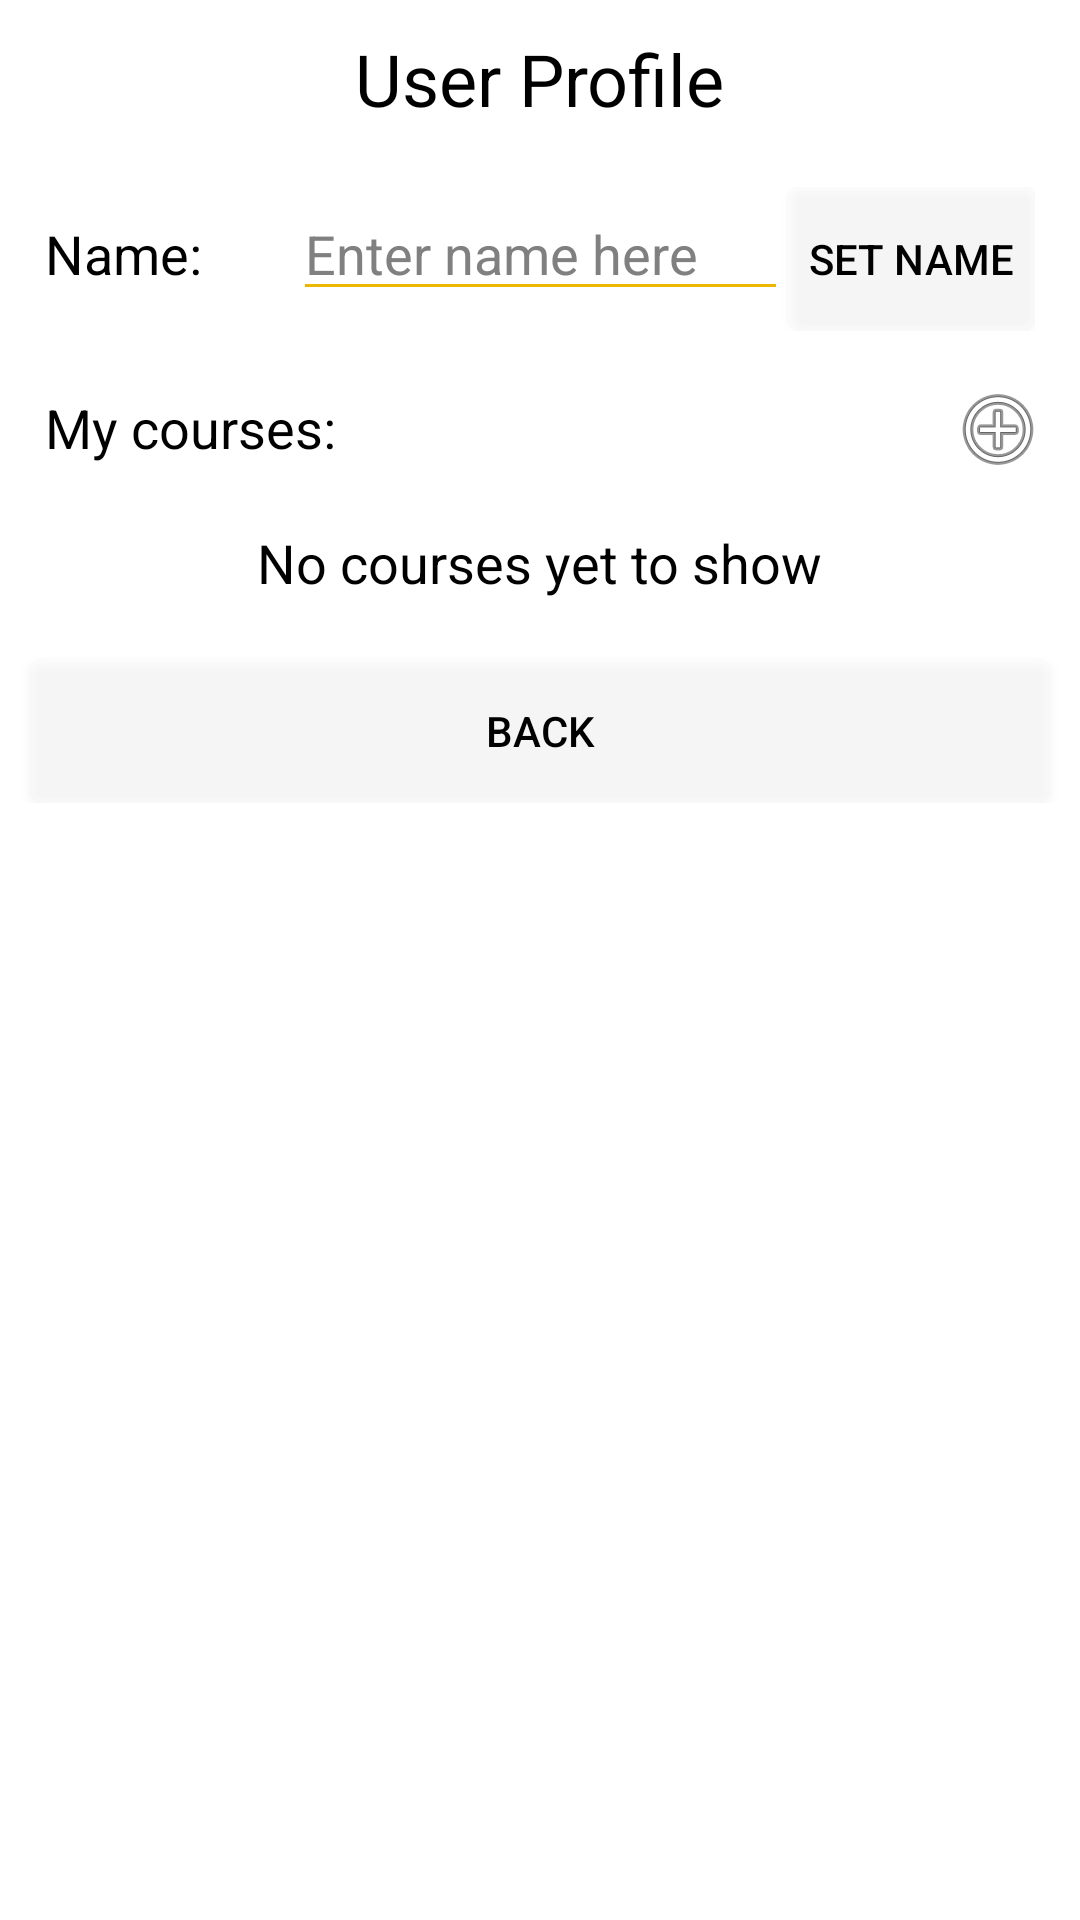

Where icons sit on this 1080px x 1920px app screen, as BBox(x1, y1, x2, y2):
add: BBox(962, 394, 1034, 465)
